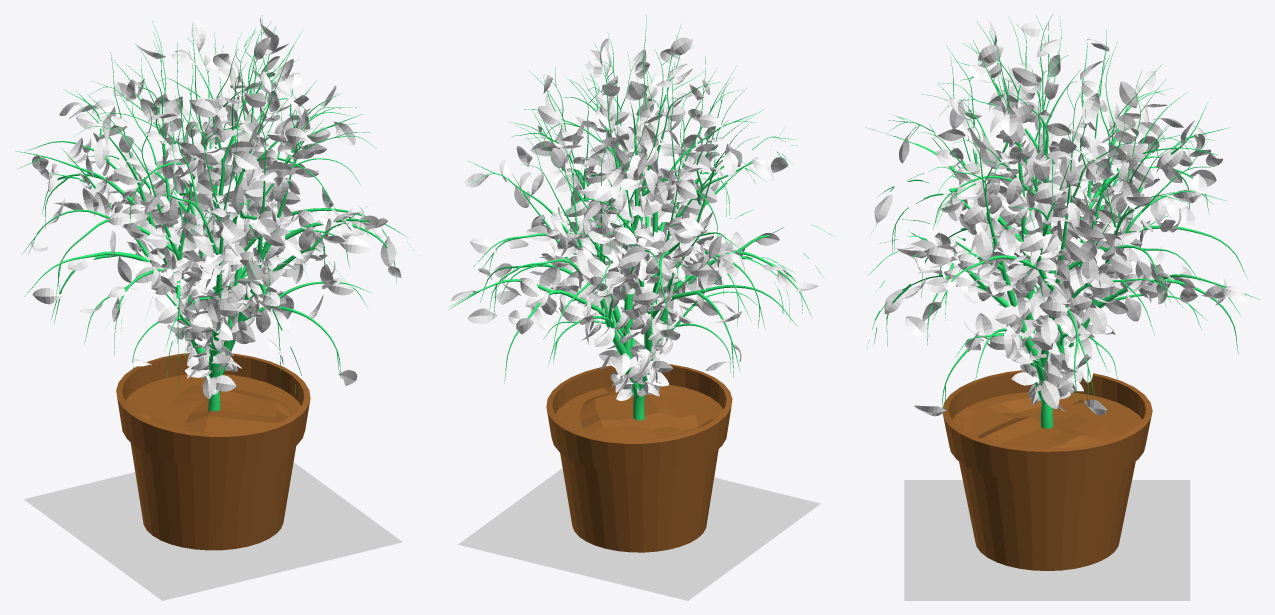
File: plant1.glb
3 renders of one model, left to right at view 1: azimuth 30°, elevation 25°; view 2: azimuth 150°, elevation 25°; view 3: azimuth 270°, elevation 25°, orthographic. The views are drawn at different scales.
Parts seen in each view (by area): view 1: Cylinder, Plane.001, tree; view 2: Cylinder, Plane.001, tree; view 3: Cylinder, Plane.001, tree.
Boxes of the visible parts, left/top/right/bottom form: Cylinder: left=116, top=353, right=310, bottom=550; Plane.001: left=24, top=462, right=402, bottom=600; tree: left=15, top=15, right=419, bottom=411; Cylinder: left=546, top=364, right=732, bottom=552; Plane.001: left=458, top=468, right=820, bottom=600; tree: left=448, top=14, right=832, bottom=420; Cylinder: left=942, top=370, right=1152, bottom=570; Plane.001: left=904, top=480, right=1190, bottom=600; tree: left=865, top=14, right=1260, bottom=428.
Size of the model in its own units: 5.59 by 7.97 by 5.47.
